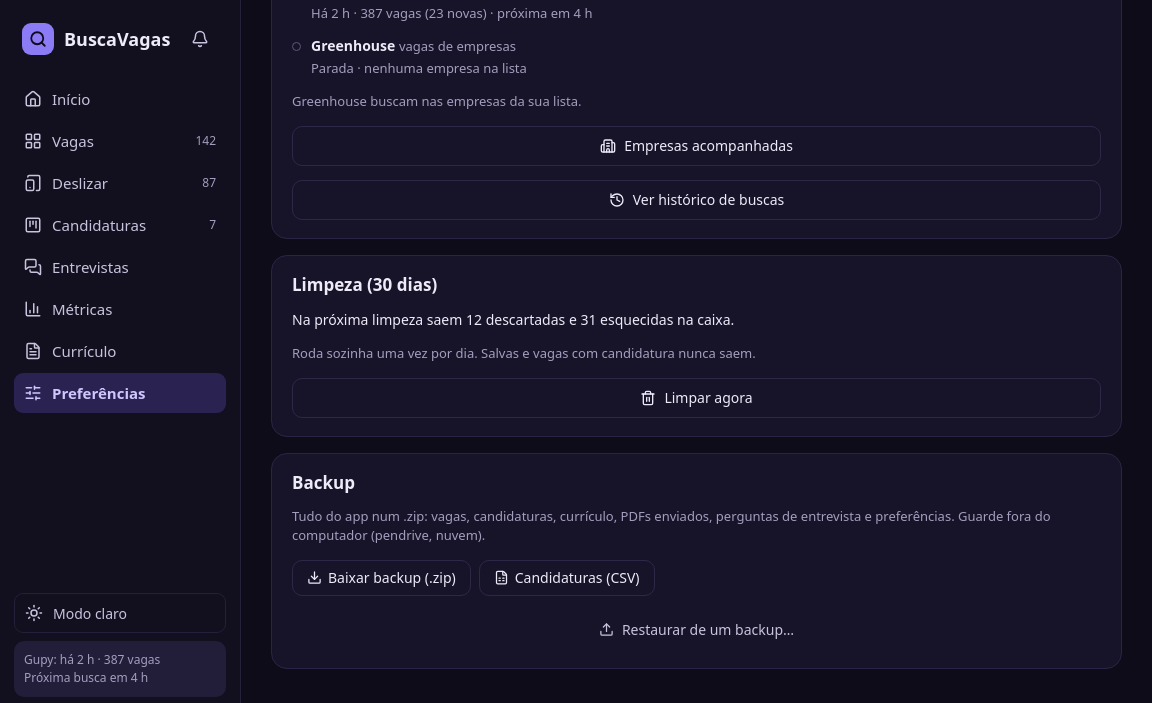
Test case: Preferências › "Limpar agora" diz o que vai apagar e só apaga depois de confirmar
(page scrolled)
Click the button "Limpar agora" at (696, 398), box [292,378,1101,418]
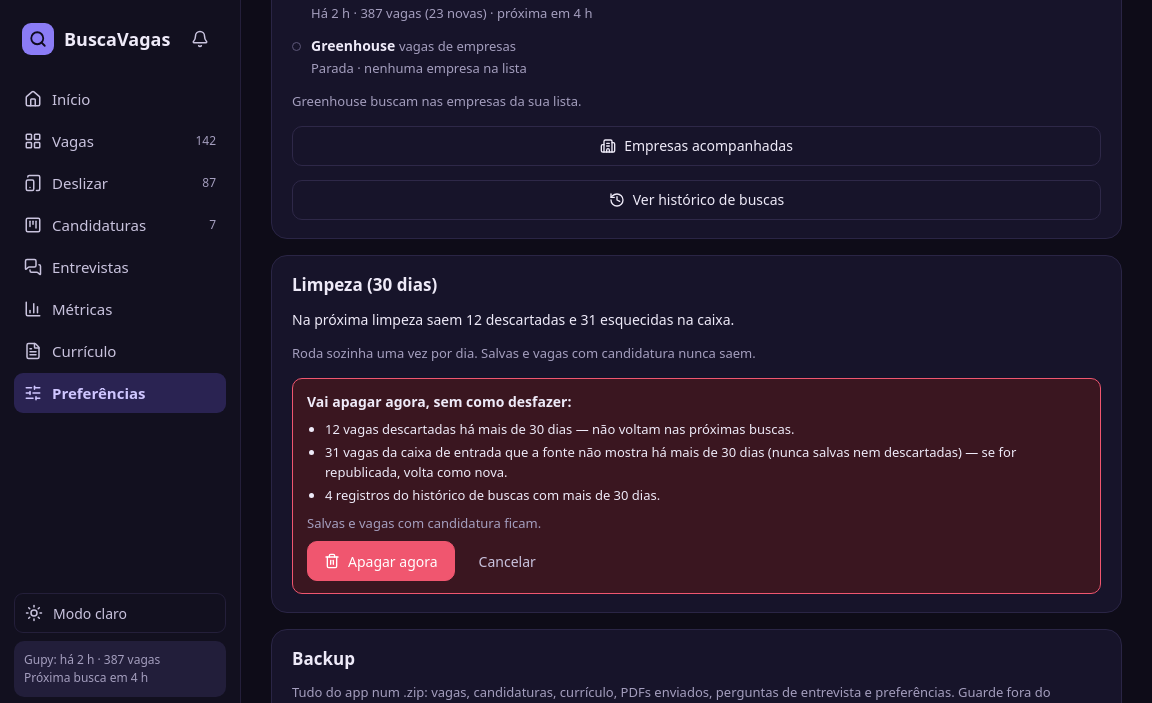
Check: the dialog shows "Vai apagar agora, sem como desfazer:", box [307,392,571,411]
Check: the dialog shows "12 vagas descartadas há mais de 30 dias — não voltam nas próximas buscas.", box [292,378,1101,594]
Check: the dialog shows "31 vagas da caixa de entrada que a fonte não mostra há mais de 30 dias", box [325,443,1016,481]
Click the button "Cancelar" at (507, 561), box [463,541,552,581]
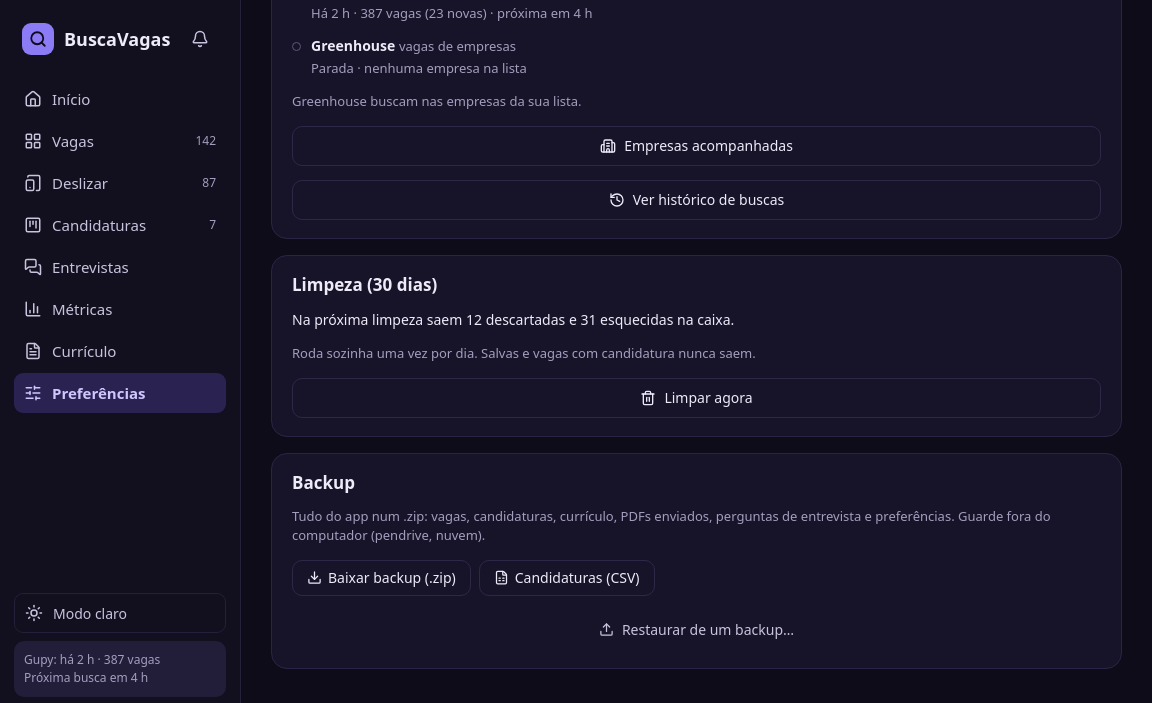
Check: the dialog is gone
Click the button "Limpar agora" at (696, 398), box [292,378,1101,418]
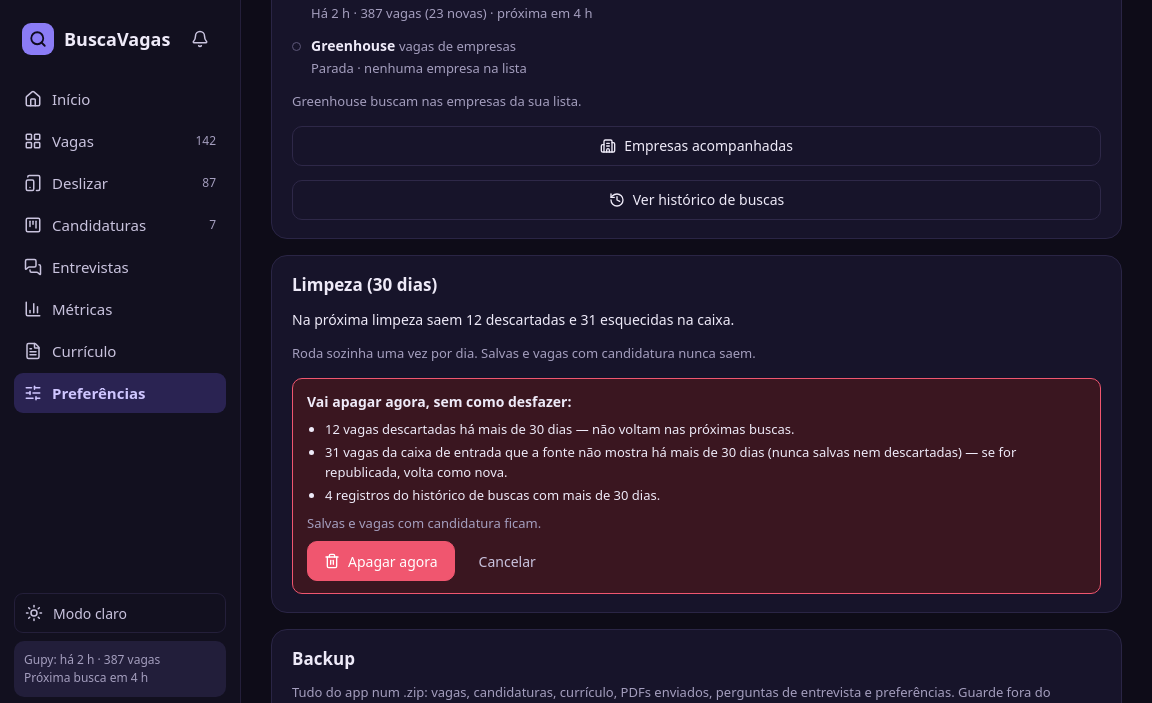
Click the button "Apagar agora" at (381, 561), box [307,541,455,581]
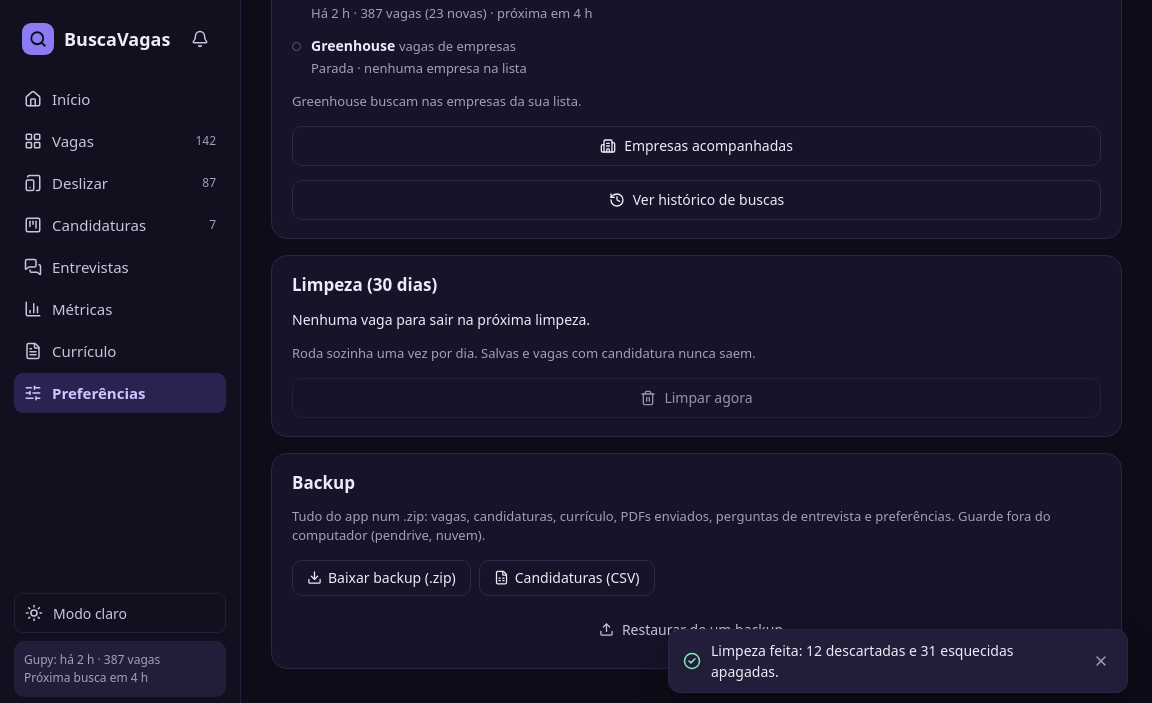
Check: the text "Limpeza feita: 12 descartadas e 31 esquecidas apagadas." is shown, box [711,641,1014,681]
Check: the text "Nenhuma vaga para sair na próxima limpeza." is shown, box [292,310,590,329]
